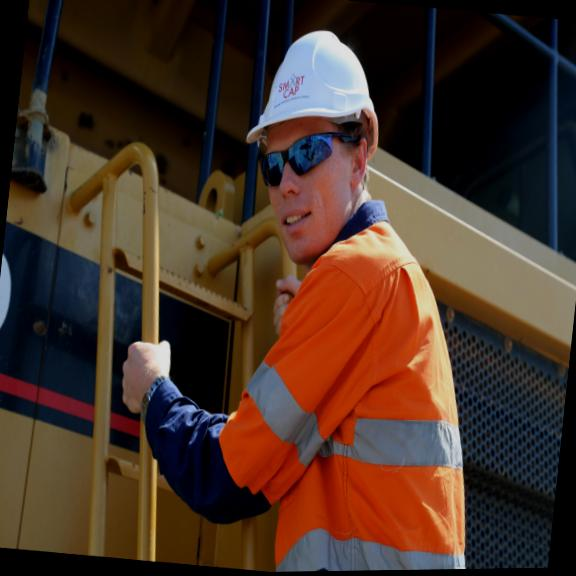safety_vest: (210, 238, 497, 573)
